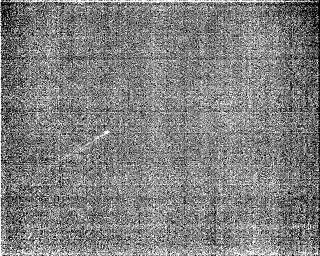AIRPLANE: (44, 130, 111, 169)
